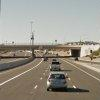Car: (45, 68, 68, 91)
